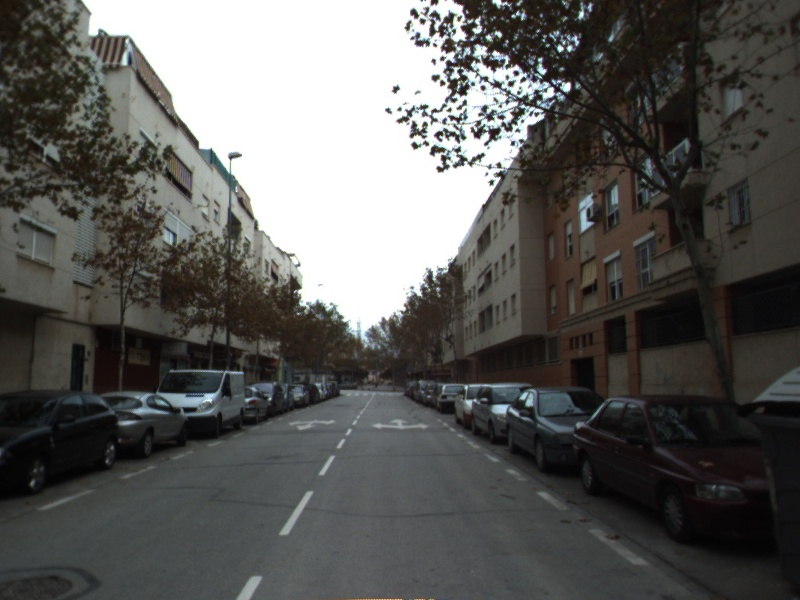STRAIGHT_LEFT_RIGHT: (370, 417, 432, 431)
